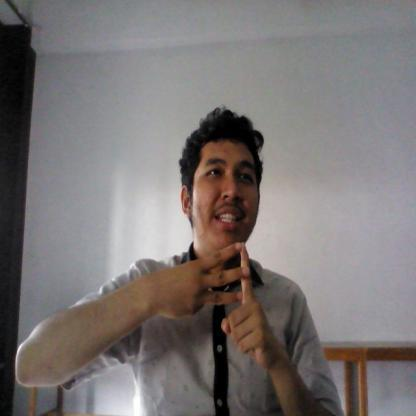B: (149, 239, 278, 368)
